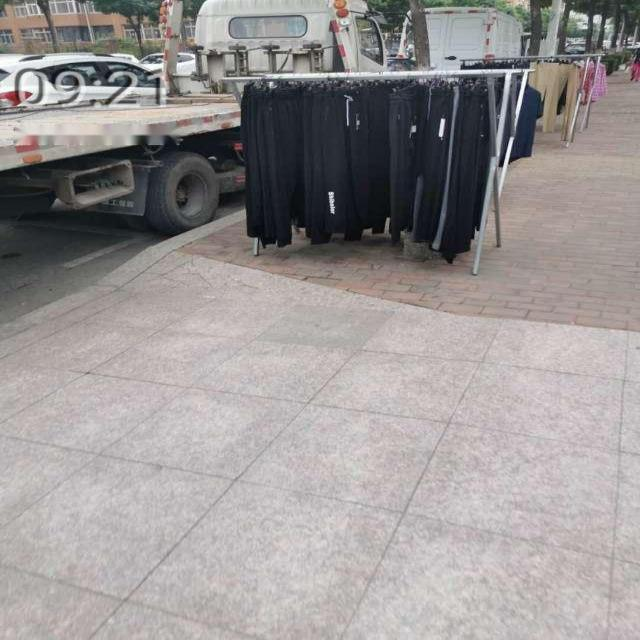car: (2, 2, 392, 240)
fixed_stall: (213, 51, 607, 275)
